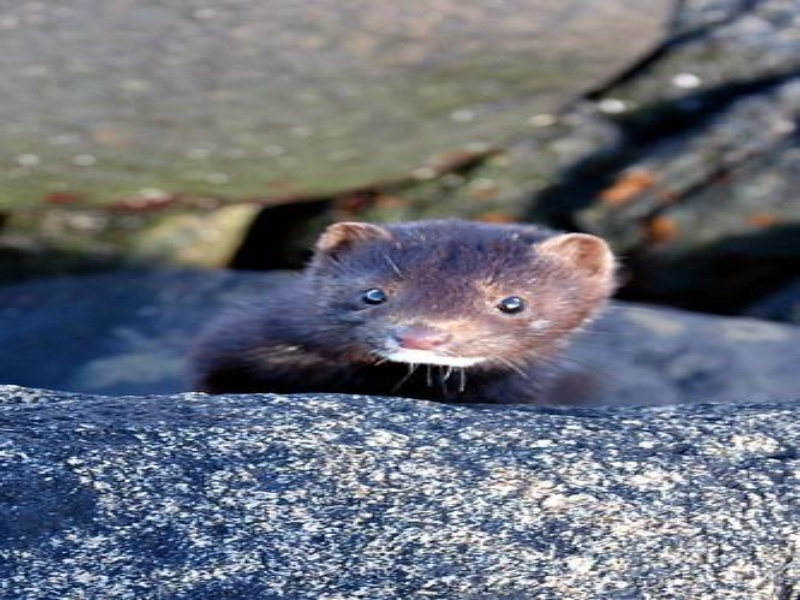minkish: (185, 215, 622, 404)
